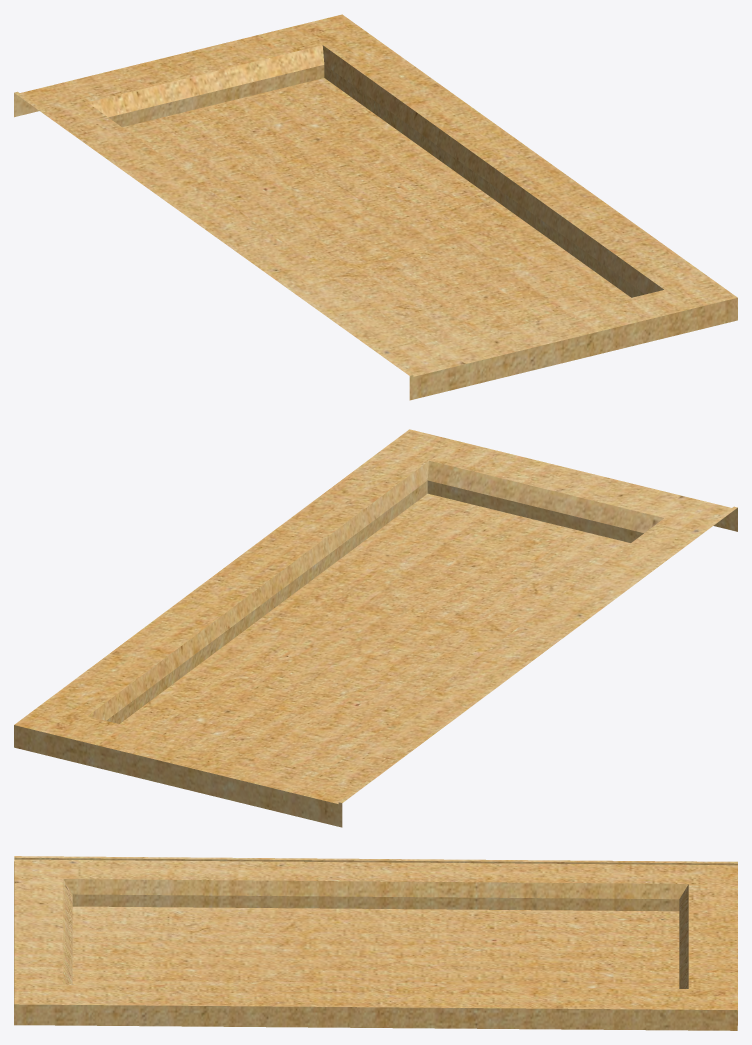
File: original-4.obj
3 views of the same model, one above another, from view 1: azimuth 30°, elevation 25°; view 2: azimuth 150°, elevation 25°; view 3: azimuth 270°, elevation 25° (orthographic). The views are drawn at different scales.
Visible parts, largest first — view 1: Group4/mesh3/mesh3-geometry#mesh3-geometry; view 2: Group4/mesh3/mesh3-geometry#mesh3-geometry; view 3: Group4/mesh3/mesh3-geometry#mesh3-geometry.
Boxes of the visible parts, x1,y1,x2,y2 form: Group4/mesh3/mesh3-geometry#mesh3-geometry: (14, 14, 737, 400); Group4/mesh3/mesh3-geometry#mesh3-geometry: (14, 429, 737, 827); Group4/mesh3/mesh3-geometry#mesh3-geometry: (14, 856, 737, 1030).
Size of the model in its own units: 0.3534 by 0.037 by 0.7375.
